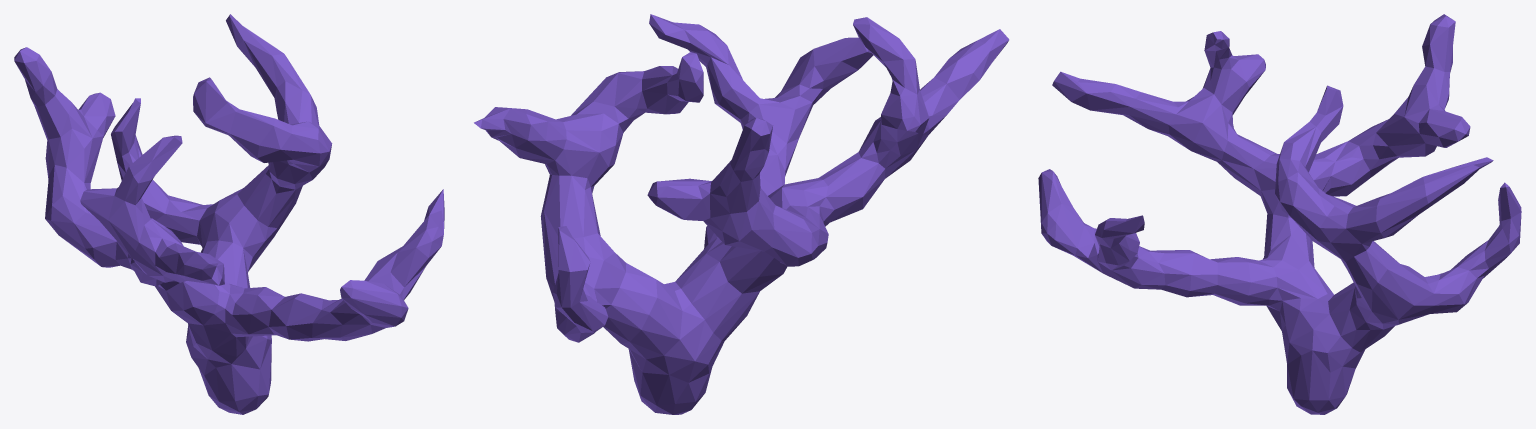
File: coral-2.gltf
3 renders of one model, left to right at view 1: azimuth 30°, elevation 25°; view 2: azimuth 150°, elevation 25°; view 3: azimuth 270°, elevation 25°, orthographic. The views are drawn at different scales.
Parts seen in each view (by area): view 1: Coral.001; view 2: Coral.001; view 3: Coral.001.
Boxes of the visible parts, x1,y1,x2,y2 form: Coral.001: (14, 14, 444, 414); Coral.001: (474, 14, 1009, 414); Coral.001: (1038, 14, 1521, 414).
Size of the model in its own units: 0.4608 by 0.5065 by 0.6741.
